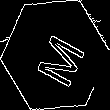M_NW: (26, 23, 84, 87)
